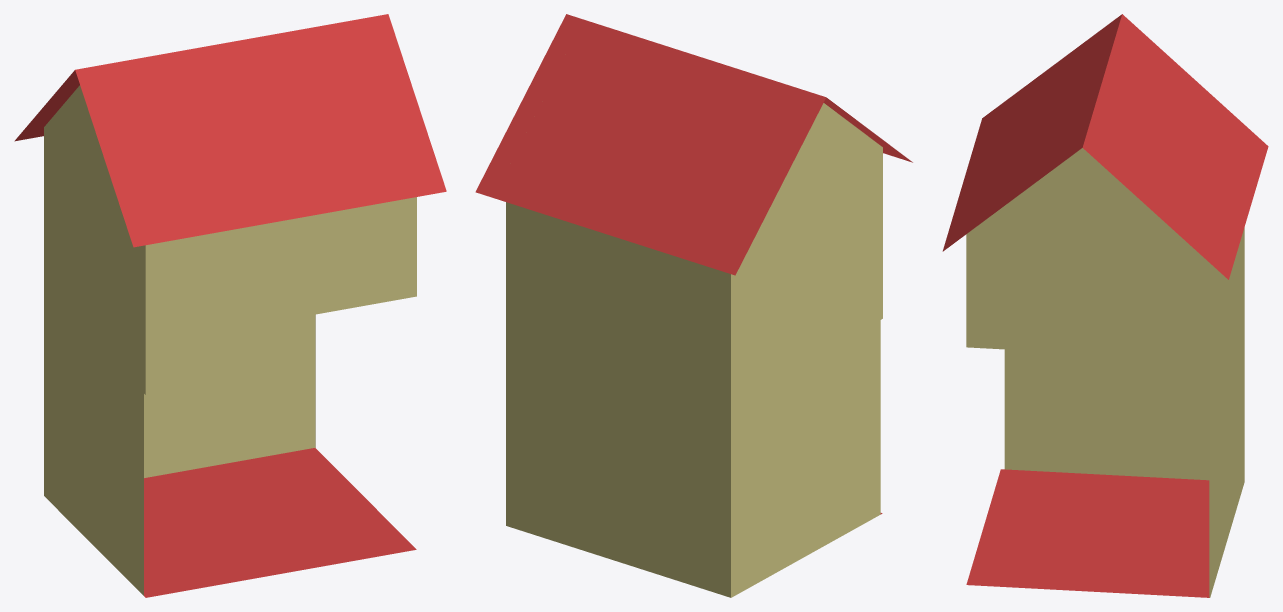
3 views of the same model, side by side, from view 1: azimuth 30°, elevation 25°; view 2: azimuth 150°, elevation 25°; view 3: azimuth 270°, elevation 25° (orthographic). The views are drawn at different scales.
Size of the model in its own units: 12.33 by 11.41 by 17.47.
